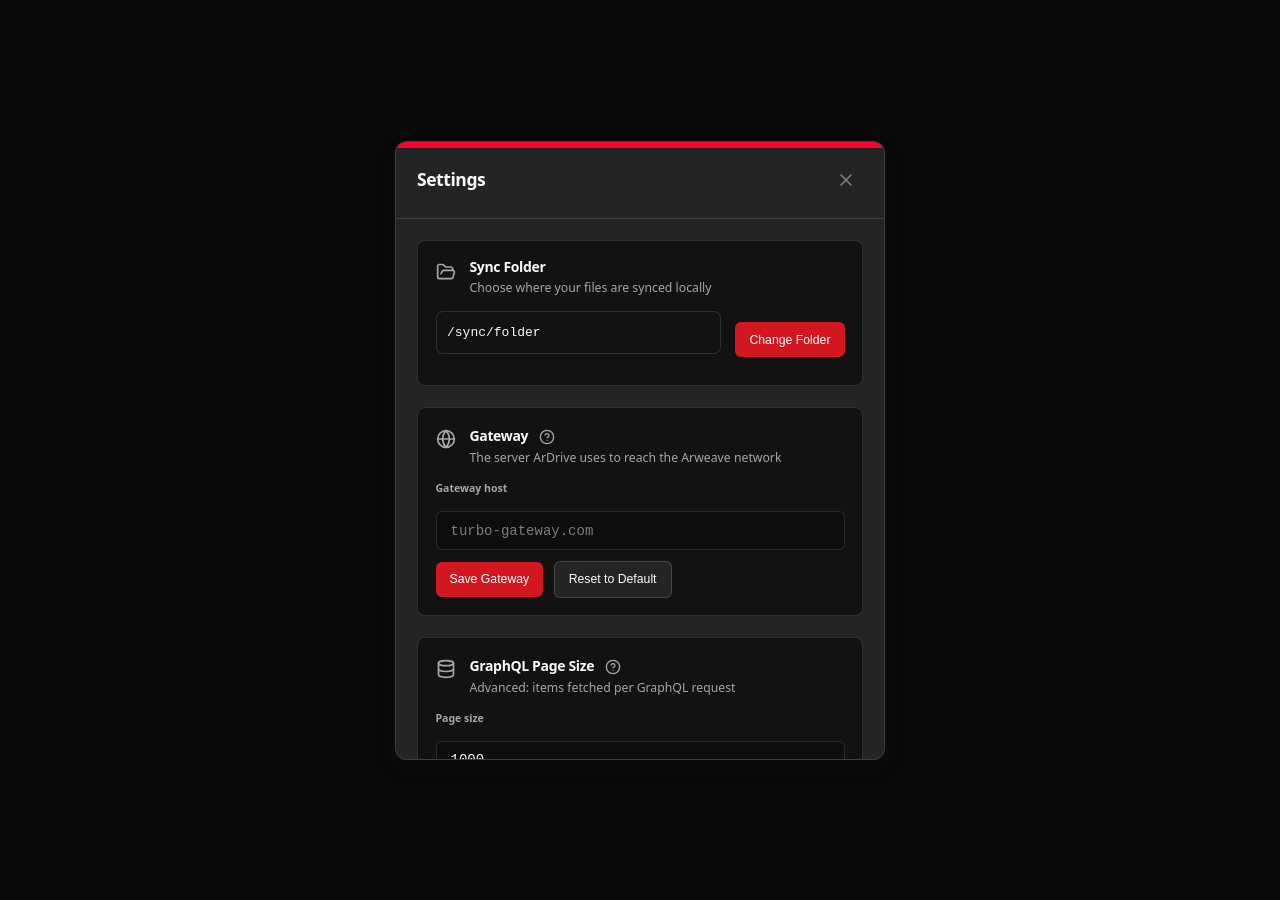
Test: Settings — Gateway host (INFO-3) › persists a valid host via the existing config.setGateway IPC path and shows confirmation
The image size is (1280, 900).
Type "ar-io.dev" into the field labelled "Gateway host".
click(640, 530); type("ar-io.dev")  # box 436,511 -> 844,550
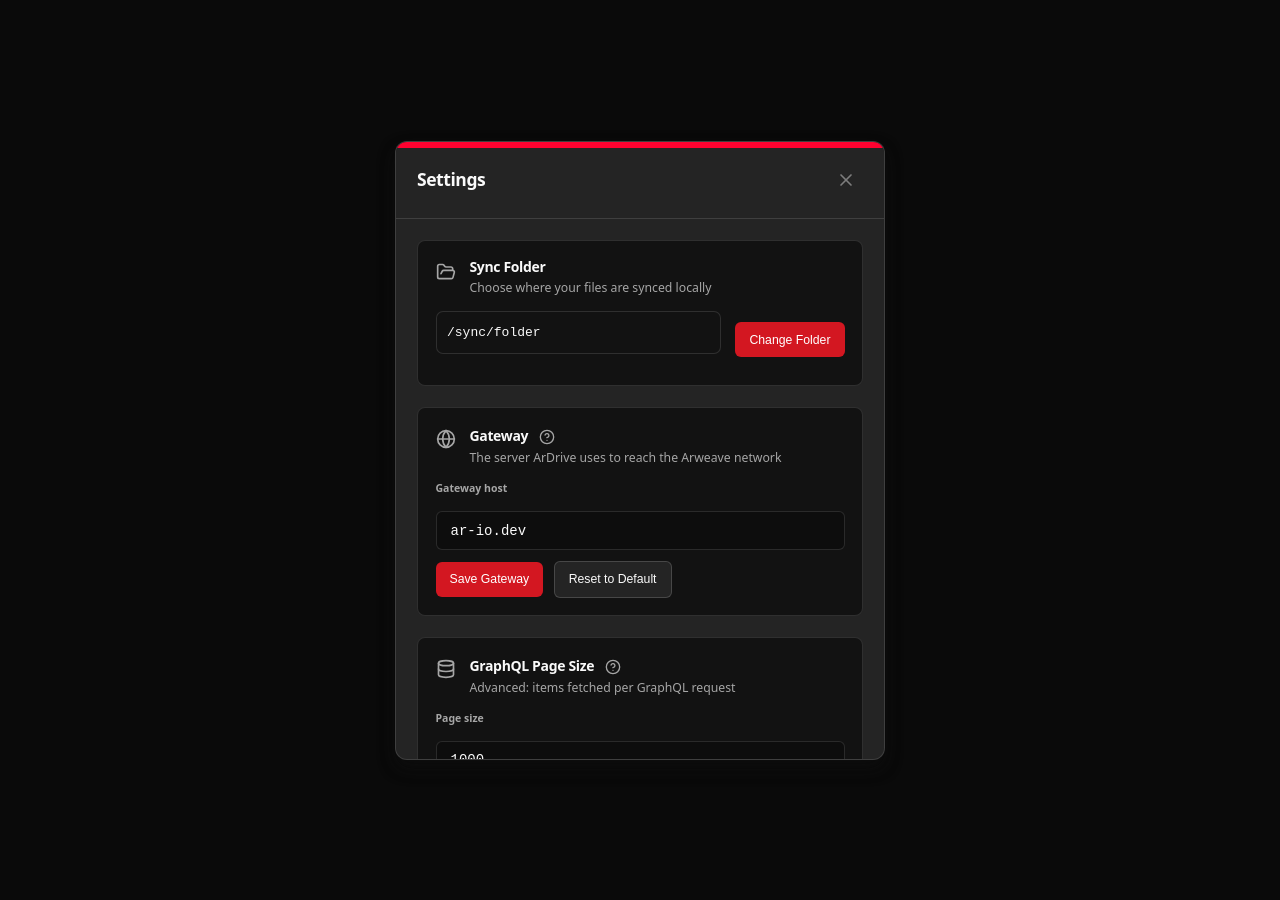
Click the button "Save Gateway".
click(489, 579)  # box 436,562 -> 543,596
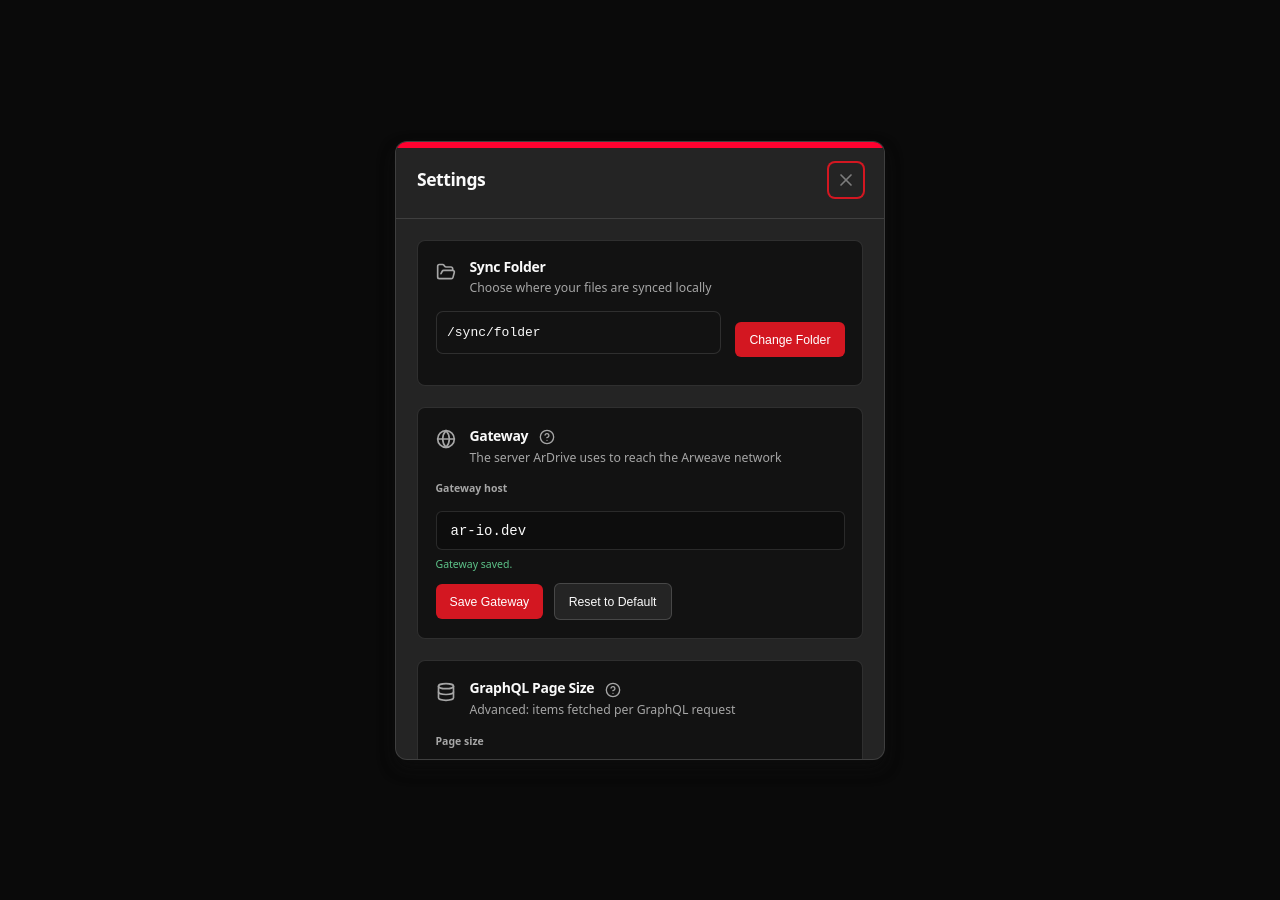
Now the text "Gateway saved." is shown, box 436,557 -> 512,571
